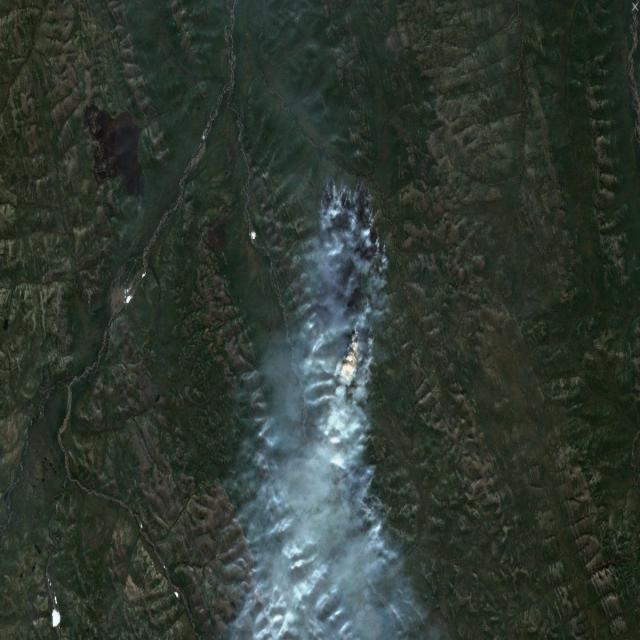fire: (310, 170, 390, 452)
